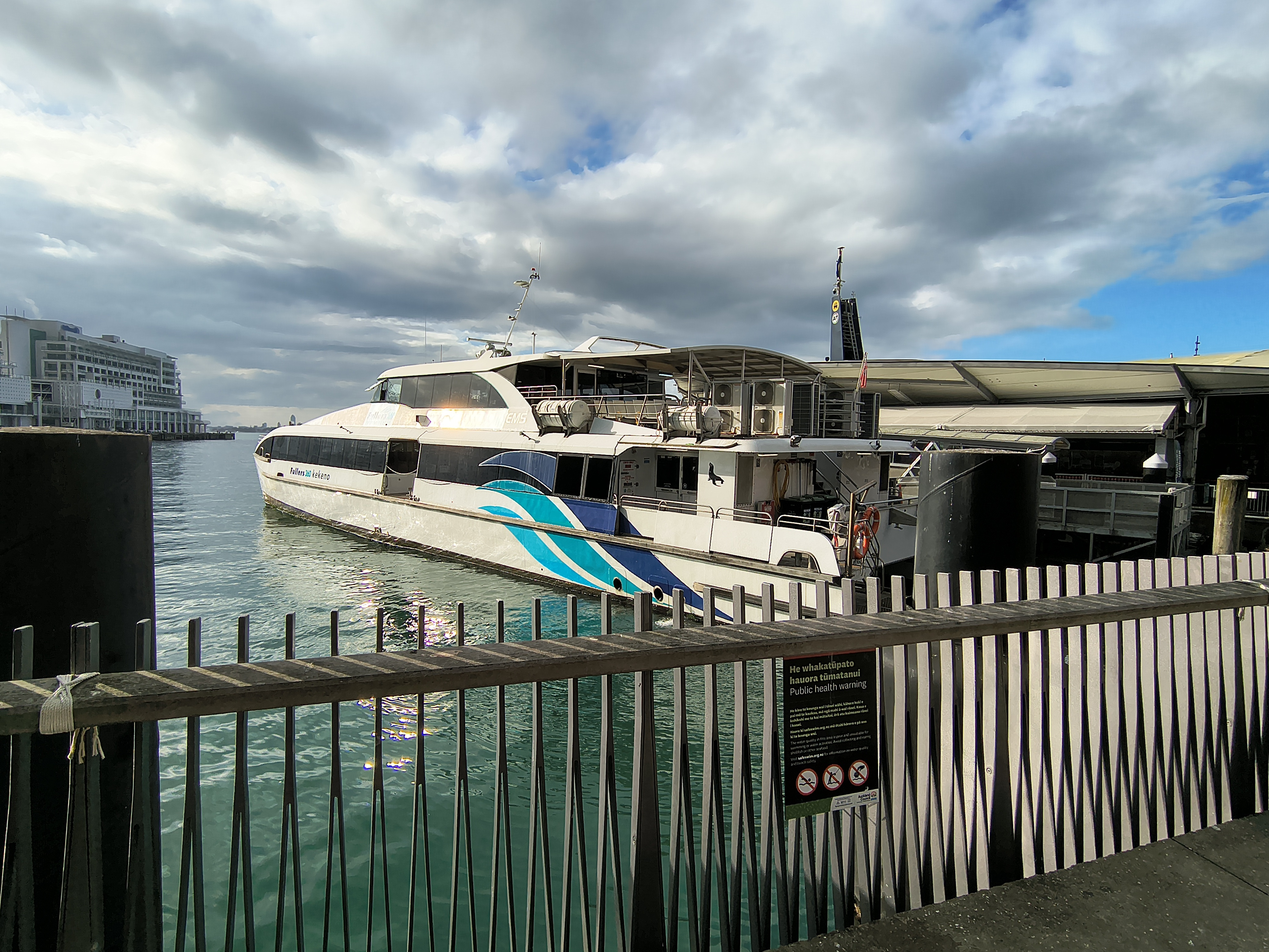ferry: (253, 334, 946, 636)
